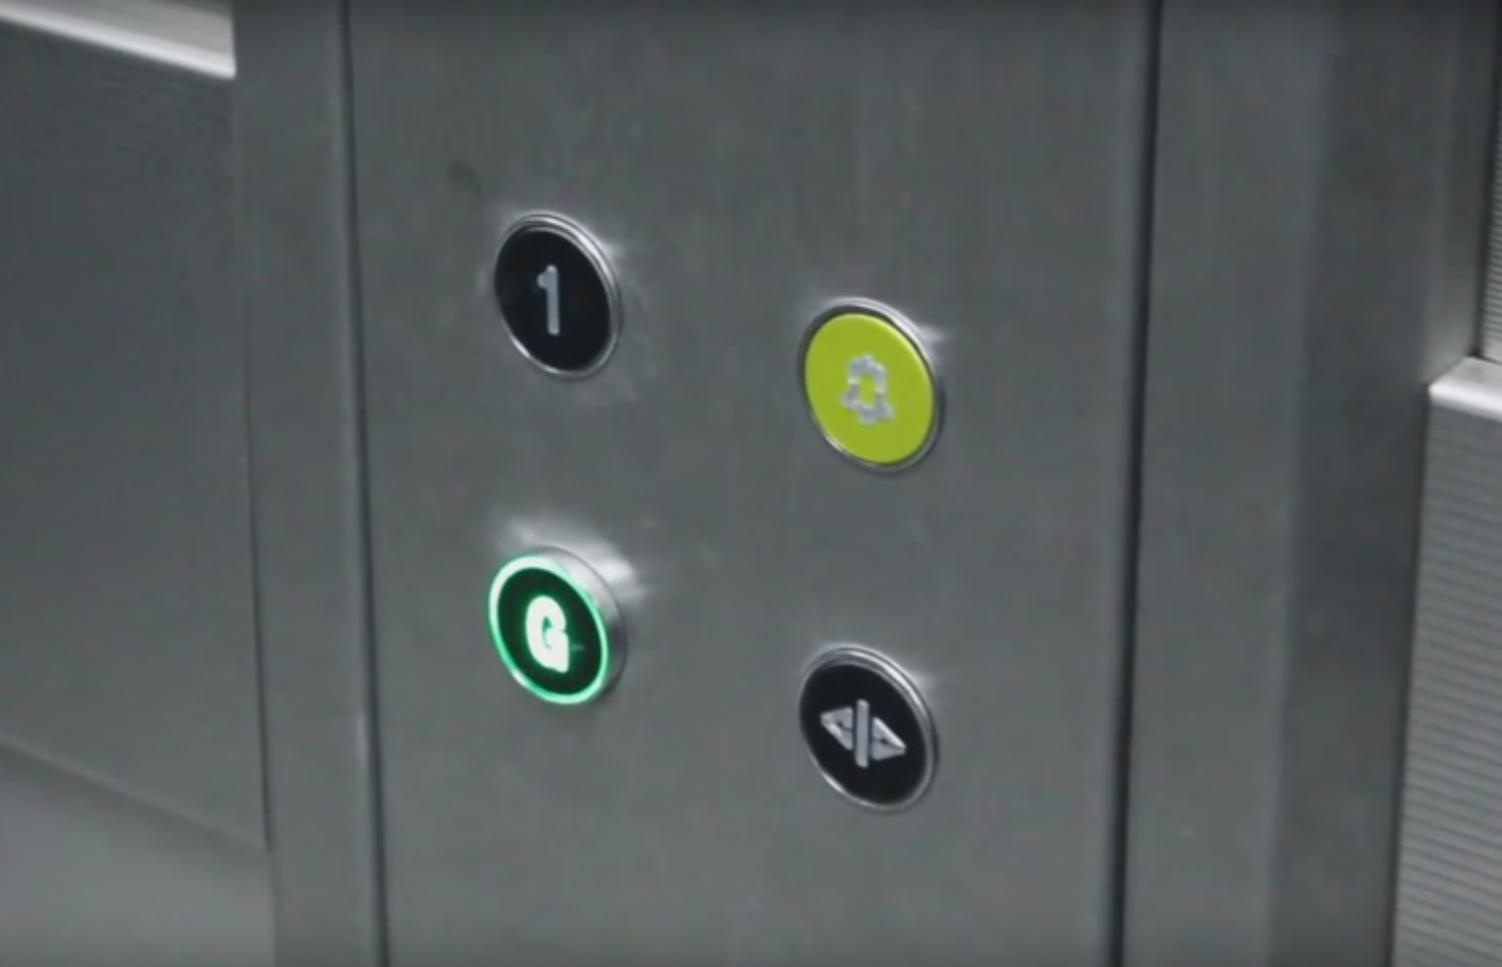1: (481, 202, 633, 385)
G: (482, 543, 634, 716)
alarm: (790, 286, 949, 479)
open: (790, 638, 944, 818)
